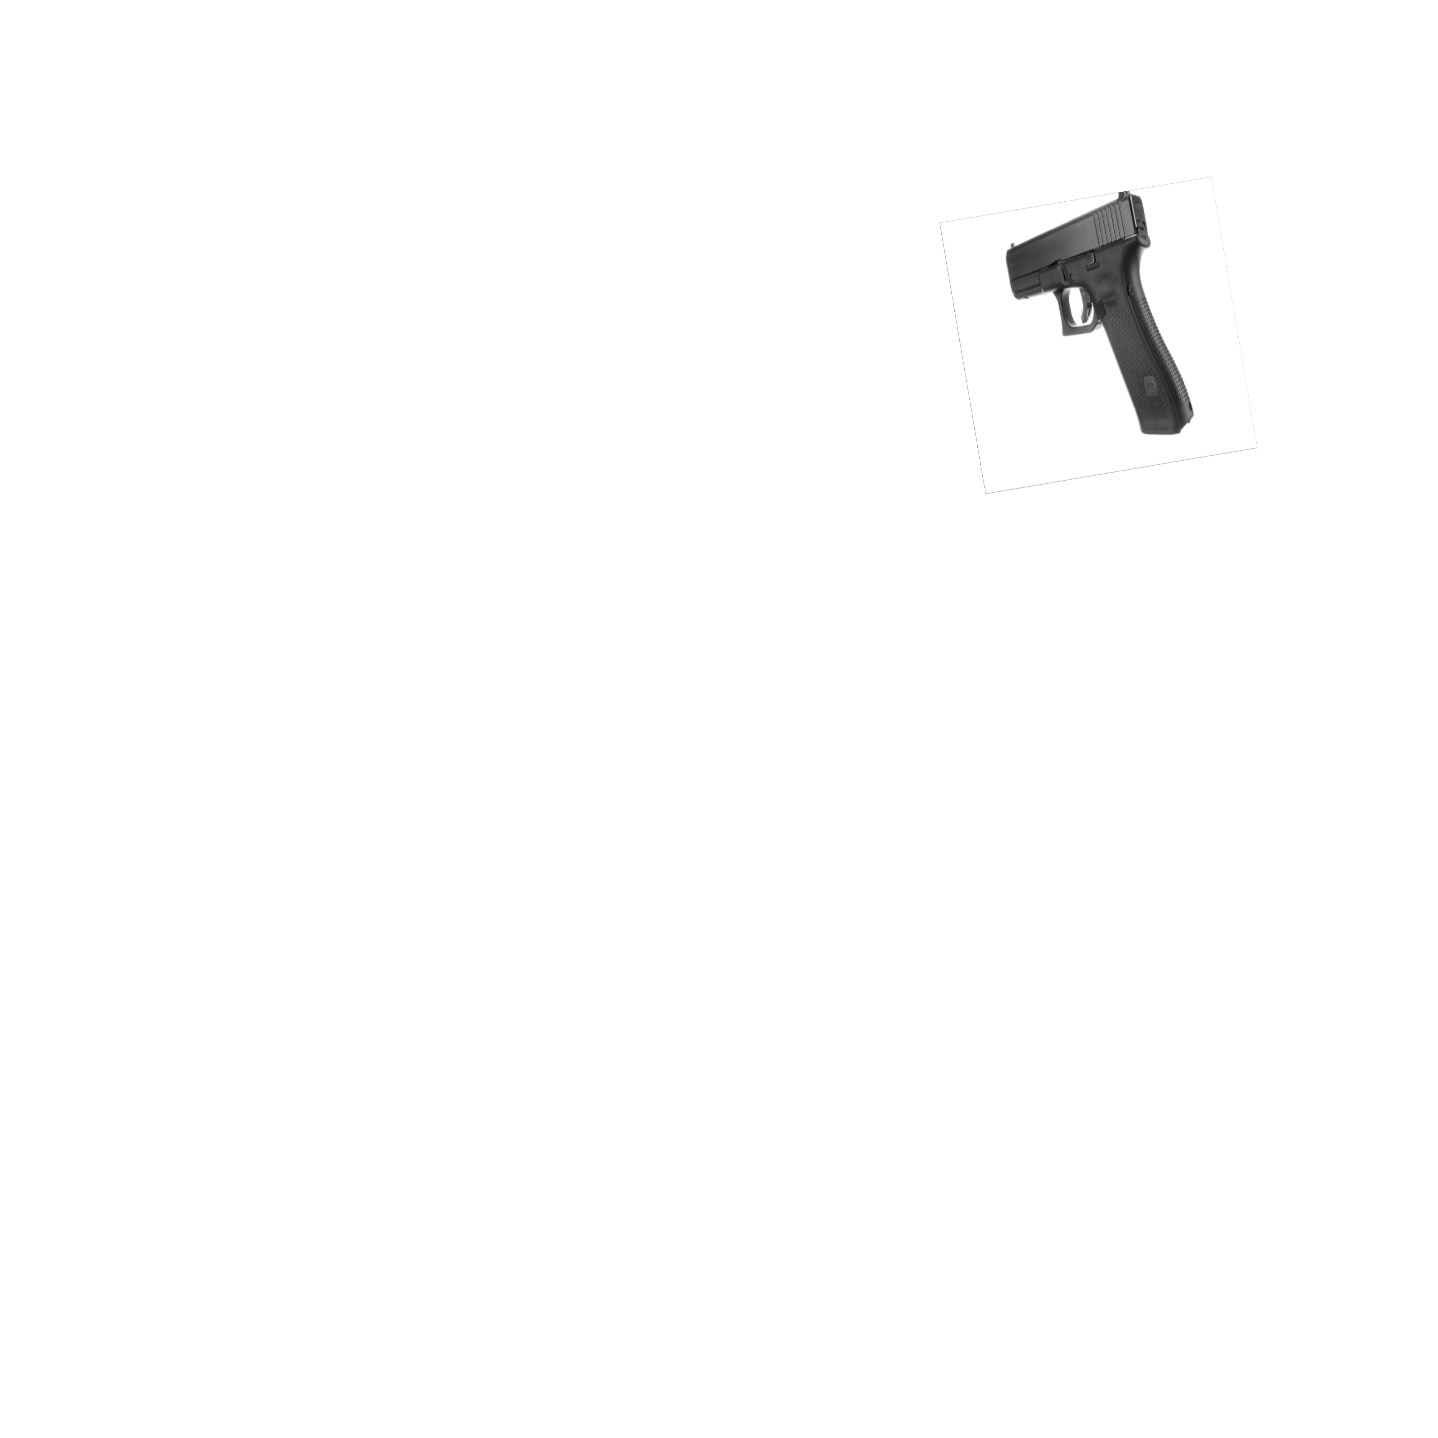gun: (999, 184, 1205, 464)
